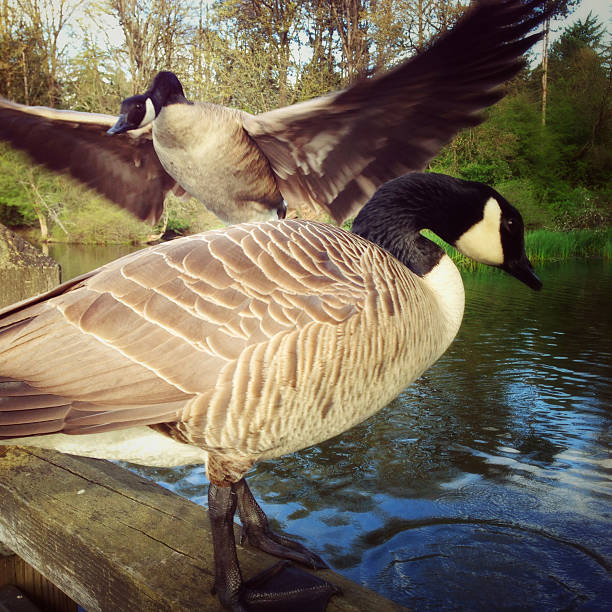goose: (1, 167, 547, 606), (1, 1, 566, 226)
